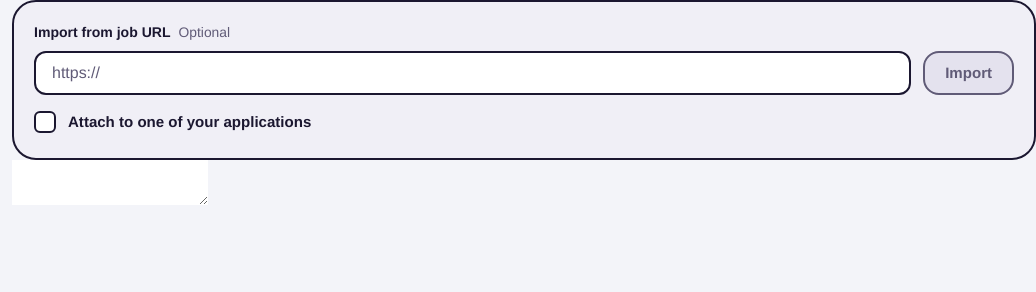
it: JobImportCard › importing from a URL › fills an empty description and can undo it
The image size is (1036, 292).
Type "https://jobs.example.com/backend" into the field labelled "Import from job URL Optional" at (473, 73), box [52,53,893,93]
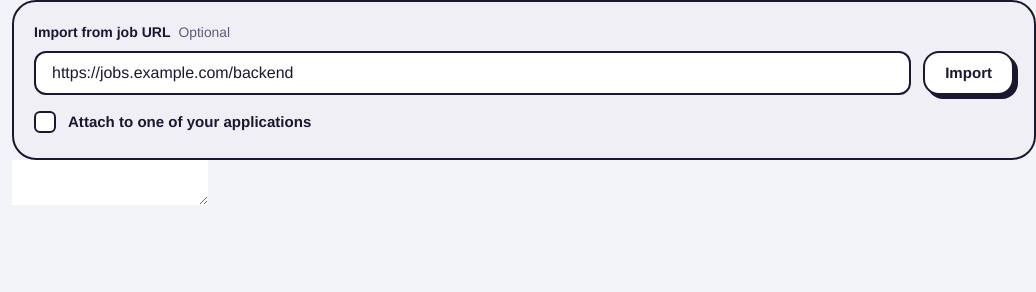
Click the button "Import" at (969, 73), box [923,51,1014,95]
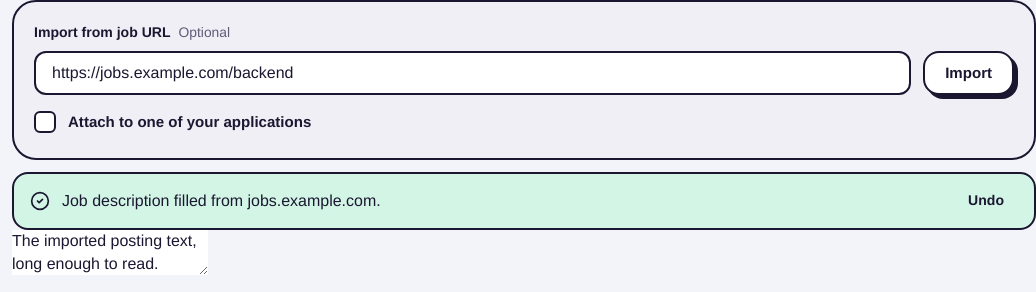
Now the text "Job description filled from jobs.example.com." is shown, box [62,190,381,210]
Now the text box named "Job description" holds "The imported posting text, long enough to read.", box [12,230,208,275]
Click the button "Undo" at (986, 201), box [954,183,1018,219]
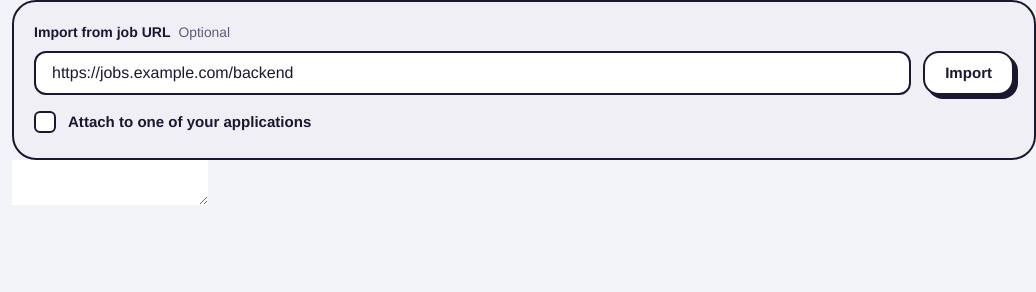
Now the text box named "Job description" is empty, box [12,160,208,204]
Now the text "Job description filled from jobs.example.com." is gone
